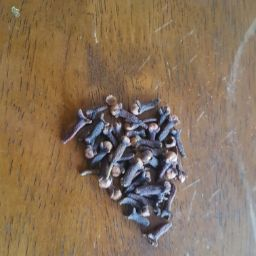Cloves: (56, 86, 198, 252)
